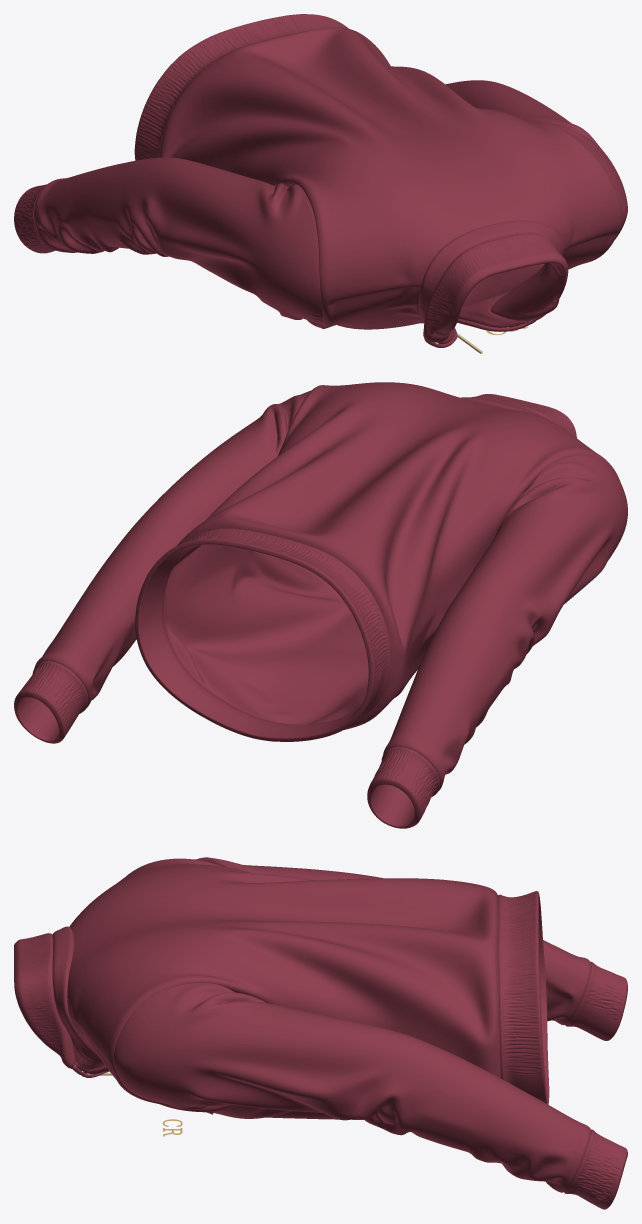
File: Chevalier_Roth_Halfzip_Bordeaux_Gold_Details.glb
The picture shows the model from 3 angles, top to bottom: view 1: azimuth 30°, elevation 25°; view 2: azimuth 150°, elevation 25°; view 3: azimuth 270°, elevation 25°; orthographic projection.
Visible parts, largest first — view 1: Bordeaux textile; view 2: Bordeaux textile; view 3: Bordeaux textile.
Part boxes in pixels (<box>): Bordeaux textile: <box>14,14,627,347</box>; Bordeaux textile: <box>14,382,627,828</box>; Bordeaux textile: <box>14,857,627,1209</box>.
Bounding box in the file's own units: 0.7233 × 0.3812 × 0.9578.
2 materials, 1 textured.
